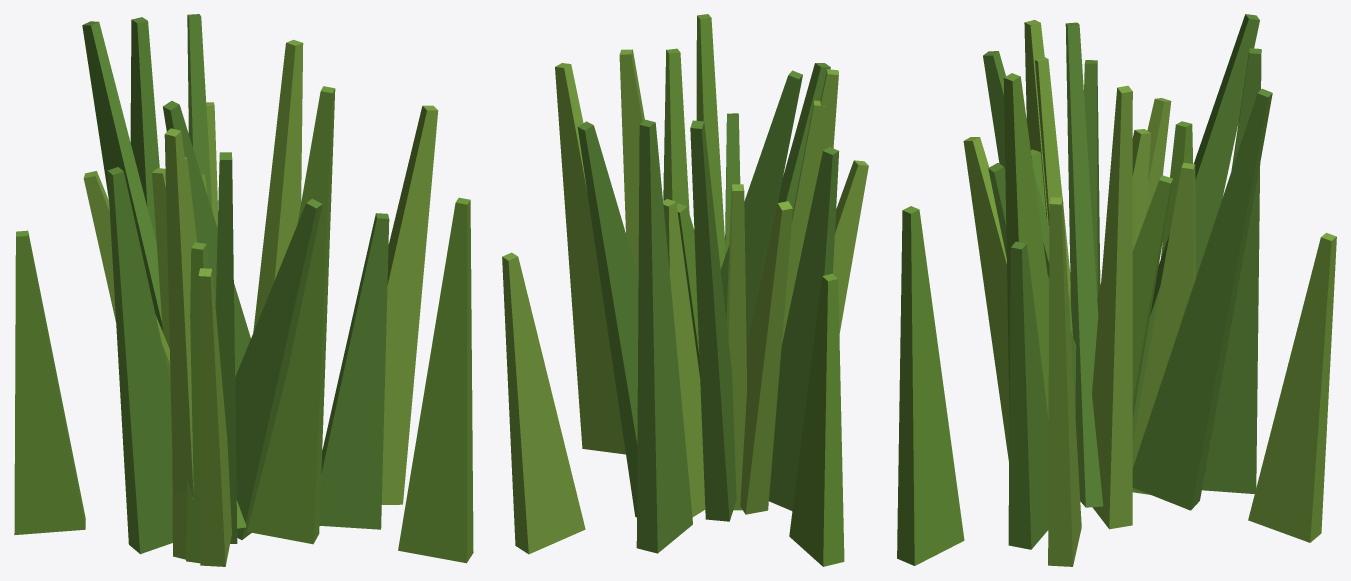
File: Grass_Clump_B.fbx
The picture shows the model from 3 angles, left to right: view 1: azimuth 30°, elevation 25°; view 2: azimuth 150°, elevation 25°; view 3: azimuth 270°, elevation 25°; orthographic projection. The views are drawn at different scales.
Visible parts, largest first — view 1: Grass_Clump_B; view 2: Grass_Clump_B; view 3: Grass_Clump_B.
Part boxes in pixels (x1=…): Grass_Clump_B: x1=14, y1=14, x2=473, y2=566; Grass_Clump_B: x1=502, y1=14, x2=868, y2=566; Grass_Clump_B: x1=897, y1=14, x2=1336, y2=566.
Size of the model in its own units: 0.4073 by 0.4946 by 0.4378.
